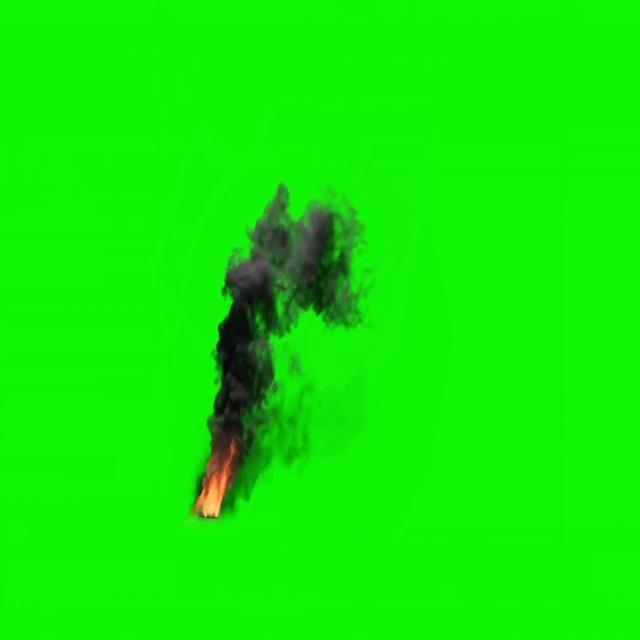Fire: (198, 446, 236, 519)
Smoke: (220, 184, 366, 436)
